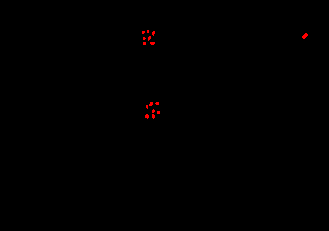Target: (302, 33, 308, 39), (145, 114, 149, 119), (149, 102, 153, 106), (152, 31, 155, 36), (148, 36, 151, 41), (150, 42, 155, 45), (152, 114, 155, 119), (155, 102, 159, 105), (152, 109, 155, 113), (142, 31, 145, 34), (143, 37, 146, 40), (143, 42, 146, 45), (157, 111, 160, 114), (146, 105, 148, 109), (147, 30, 149, 33)
